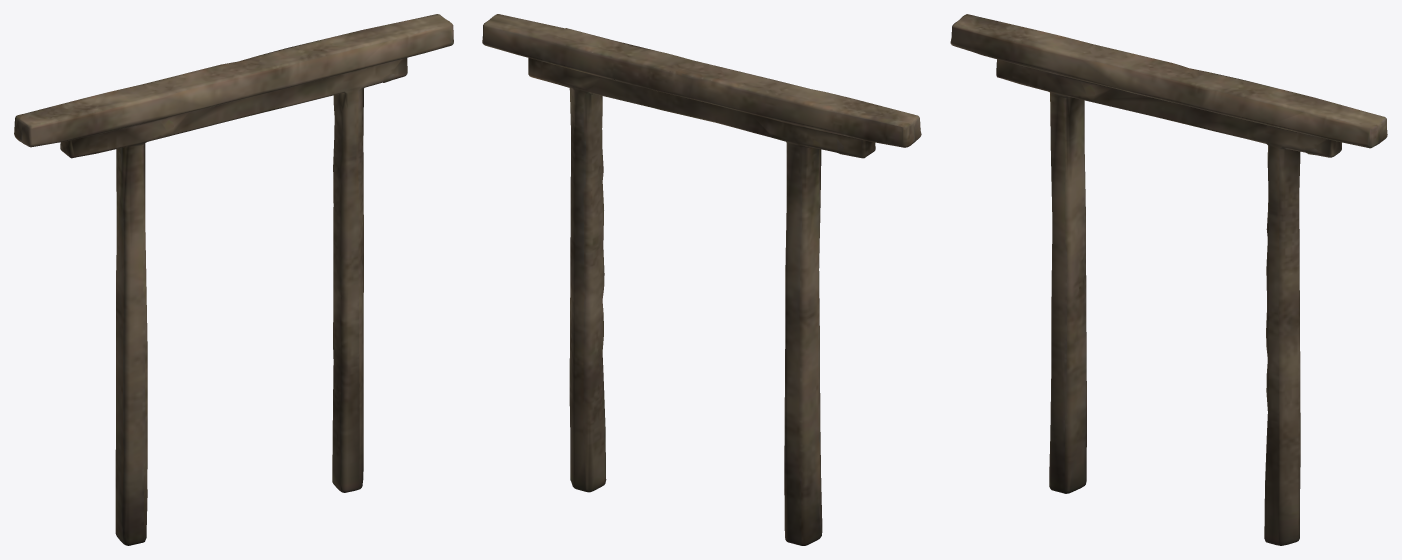
The model's file is weathered-wood-torii-frame-v001.glb.
The picture shows the model from 3 angles, left to right: view 1: azimuth 30°, elevation 25°; view 2: azimuth 150°, elevation 25°; view 3: azimuth 330°, elevation 25°; orthographic projection.
Visible parts, largest first — view 1: weathered-wood-torii-frame; view 2: weathered-wood-torii-frame; view 3: weathered-wood-torii-frame.
Part boxes in pixels (bbox=[...]): weathered-wood-torii-frame: bbox=[14, 14, 453, 545]; weathered-wood-torii-frame: bbox=[482, 14, 921, 545]; weathered-wood-torii-frame: bbox=[950, 14, 1387, 545].
Size of the model in its own units: 2.47 by 2.47 by 0.2093.
Materials: 1 (1 with a texture image).
